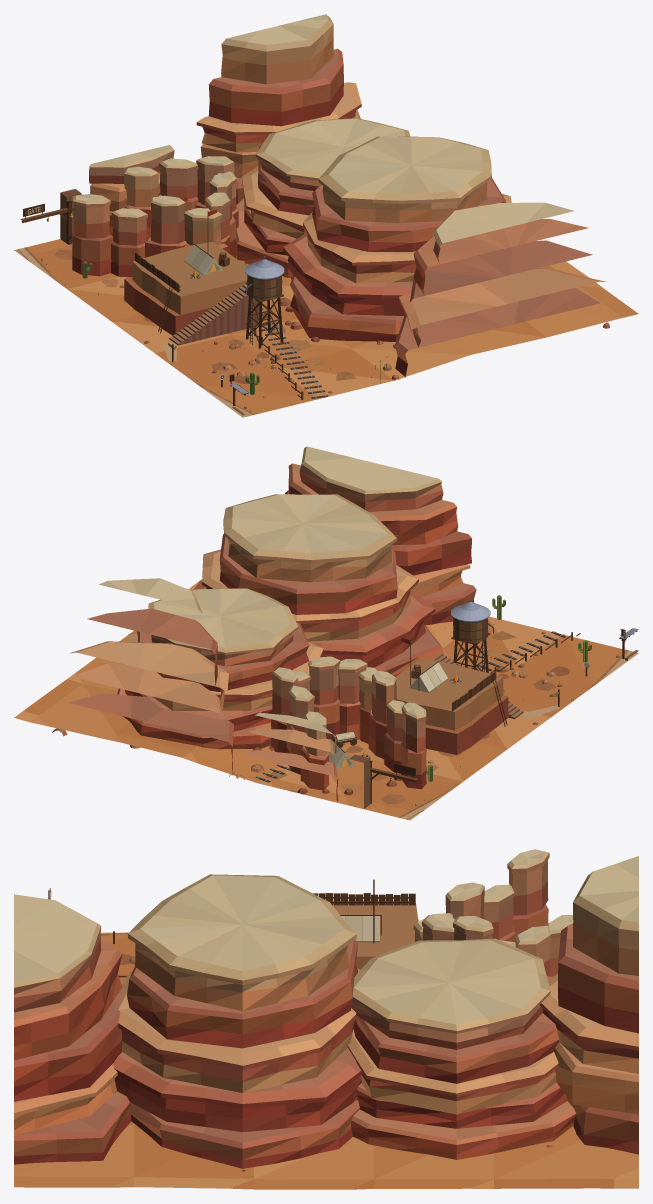
The picture shows the model from 3 angles, top to bottom: view 1: azimuth 30°, elevation 25°; view 2: azimuth 150°, elevation 25°; view 3: azimuth 270°, elevation 25°; orthographic projection. The views are drawn at different scales.
Parts seen in each view (by area): view 1: baked (×2); view 2: baked (×2); view 3: baked.
Boxes of the visible parts, x1,y1,x2,y2 form: baked (×2): [14, 14, 638, 417]; baked (×2): [14, 446, 638, 820]; baked: [14, 849, 638, 1189].
Bounding box in the file's own units: 62.5 × 24.16 × 62.5.
